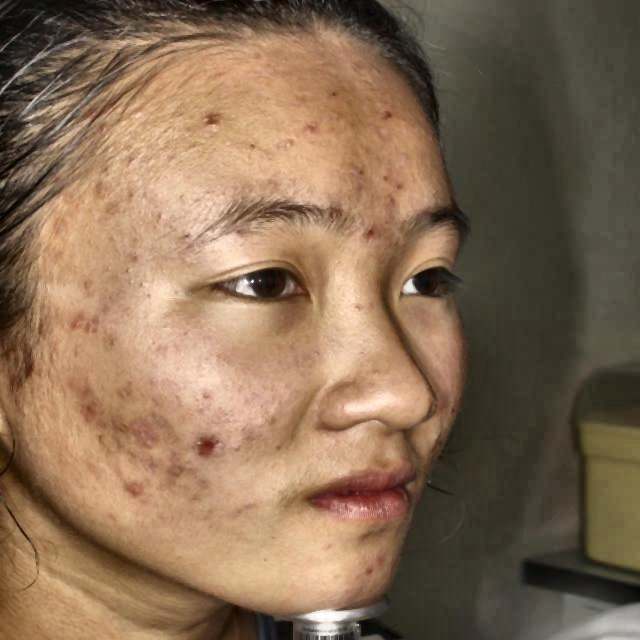pustule: (378, 170, 414, 215), (117, 465, 152, 509), (126, 417, 162, 455), (191, 435, 226, 468), (194, 109, 229, 140), (161, 454, 188, 486), (356, 220, 386, 247), (66, 371, 96, 396), (19, 361, 49, 383), (82, 316, 109, 339), (59, 304, 82, 328), (78, 398, 104, 418), (298, 120, 325, 139)
